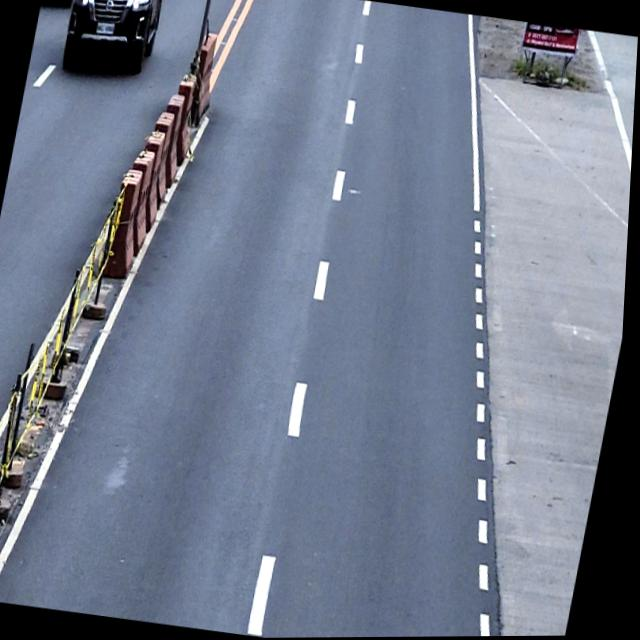Car: (59, 0, 167, 81)
License-Plate: (95, 20, 117, 36)
